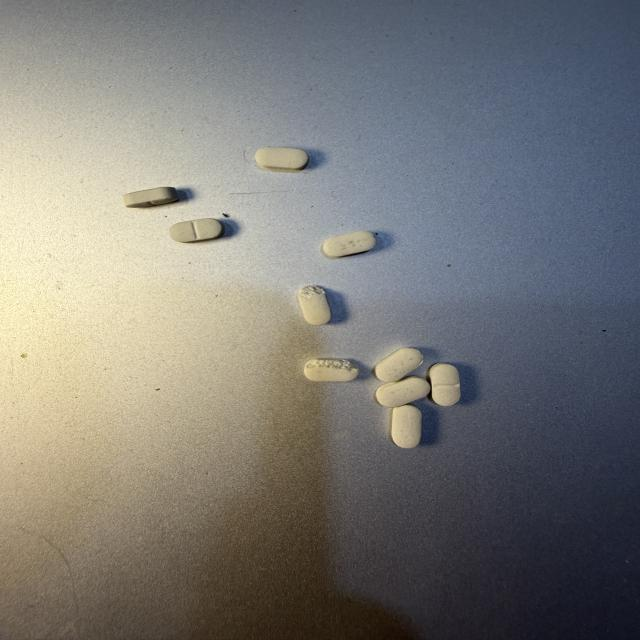pill: (374, 348, 423, 382), (376, 377, 430, 407), (322, 231, 376, 257), (429, 363, 460, 406), (255, 147, 308, 172), (298, 286, 331, 325), (392, 405, 421, 448), (170, 219, 223, 242), (305, 359, 358, 381), (124, 187, 178, 207)
